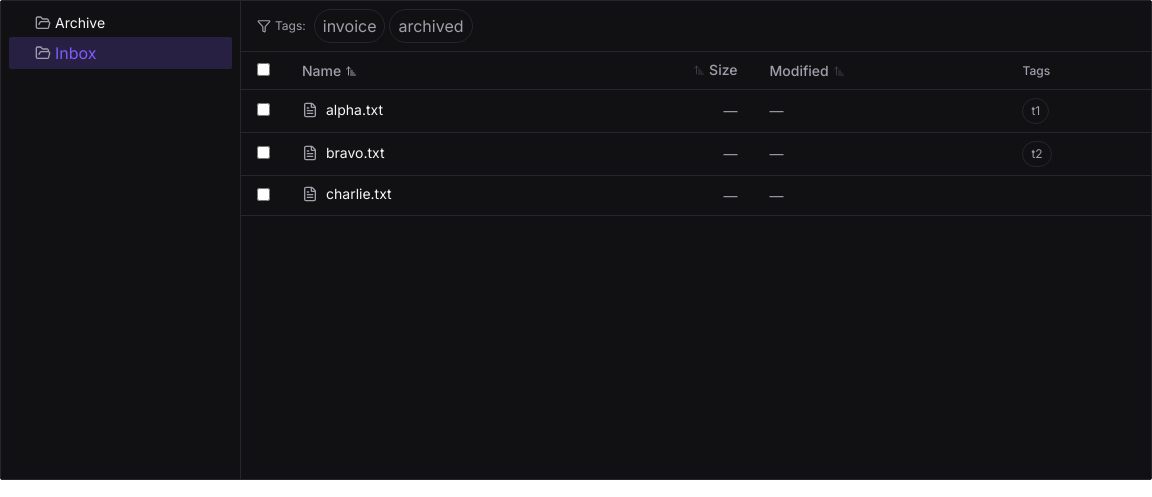
Test case: FileBrowser — bulk selection + toolbar › Esc keyboard clears the selection
Expected: the row with test id "file-row-f1" is shown, [241,90,1151,132]
Step 1. Click the checkbox with test id "file-row-checkbox-f1" → {"x": 264, "y": 110}, box [257,103,270,116]
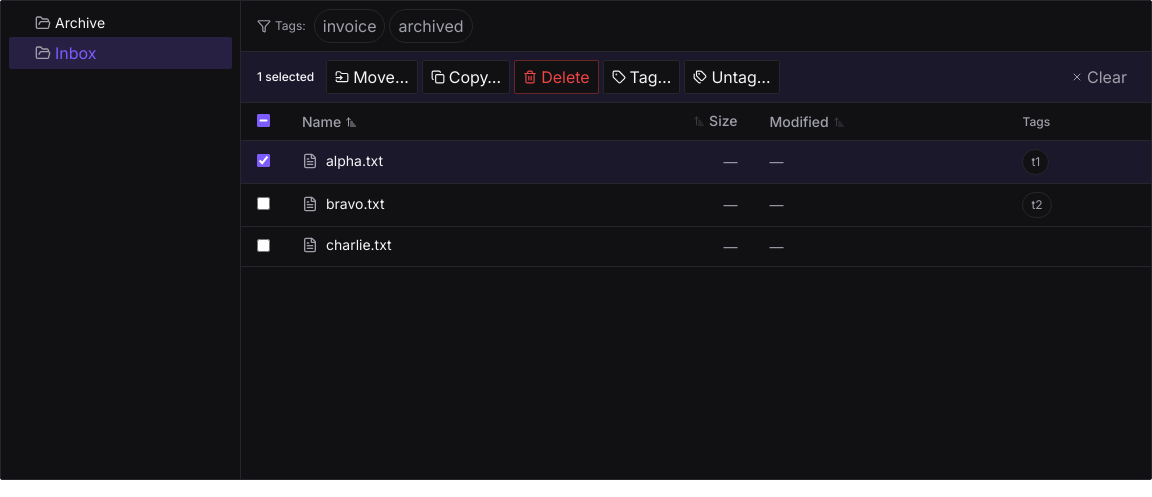
Result: the element with test id "file-browser" has attribute data-selection-count="1"
Step 2. Press Escape
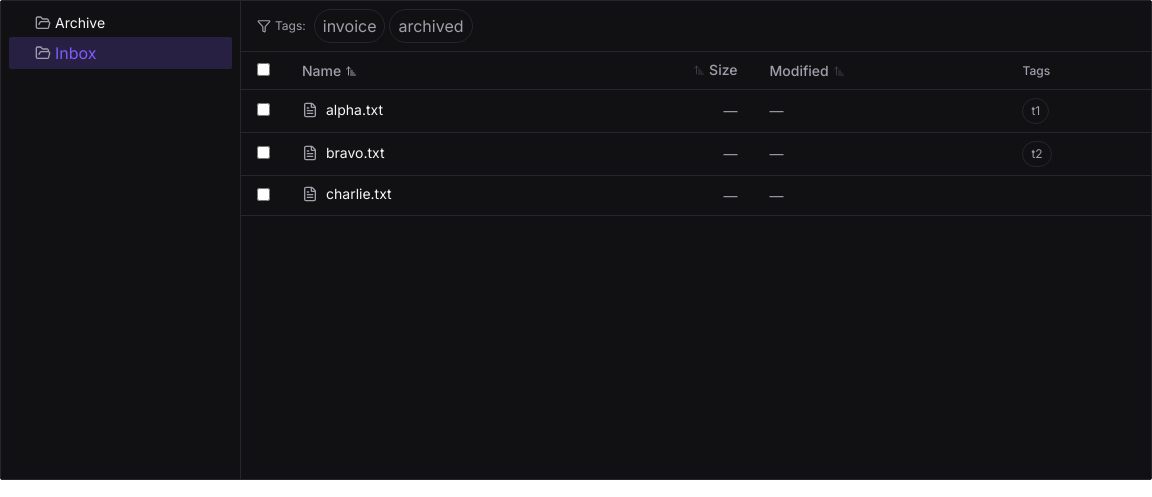
Result: the element with test id "bulk-toolbar" is gone
